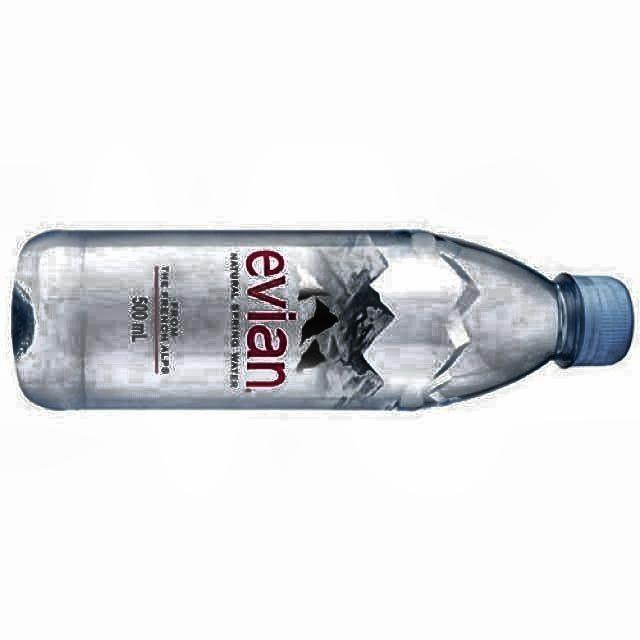plastic: (12, 231, 634, 409)
